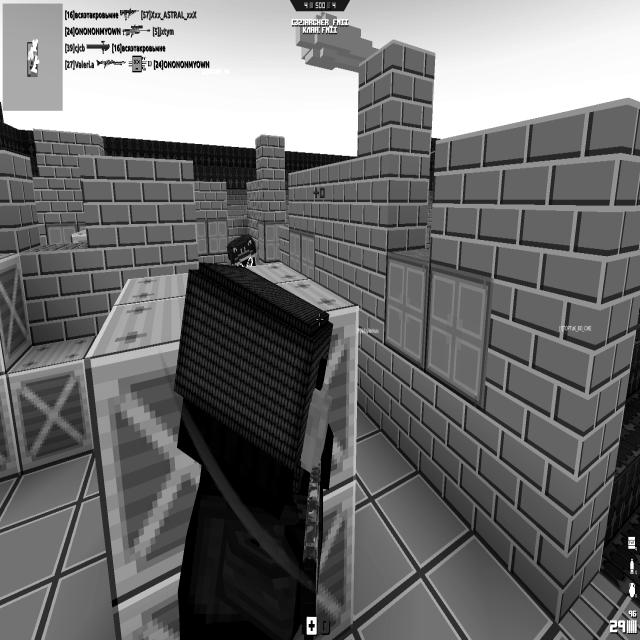Head: (177, 259, 334, 499), (222, 236, 262, 272)
Player: (173, 255, 335, 638)
